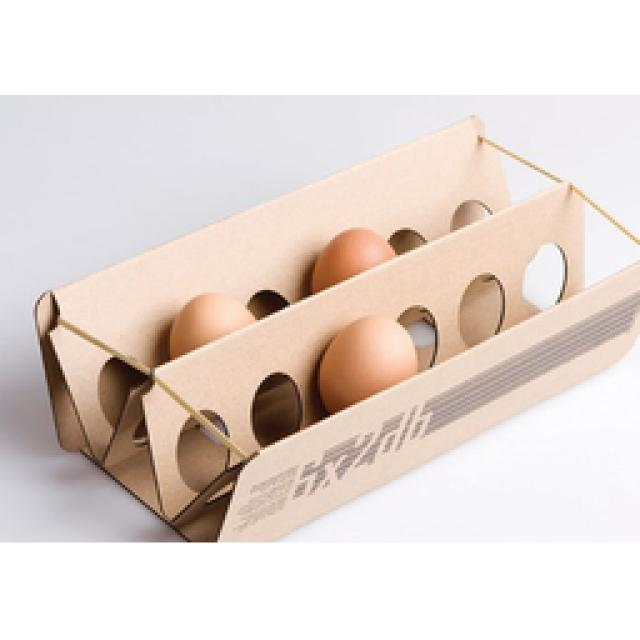cardboard: (34, 114, 516, 517), (140, 183, 591, 543), (218, 265, 639, 545)
